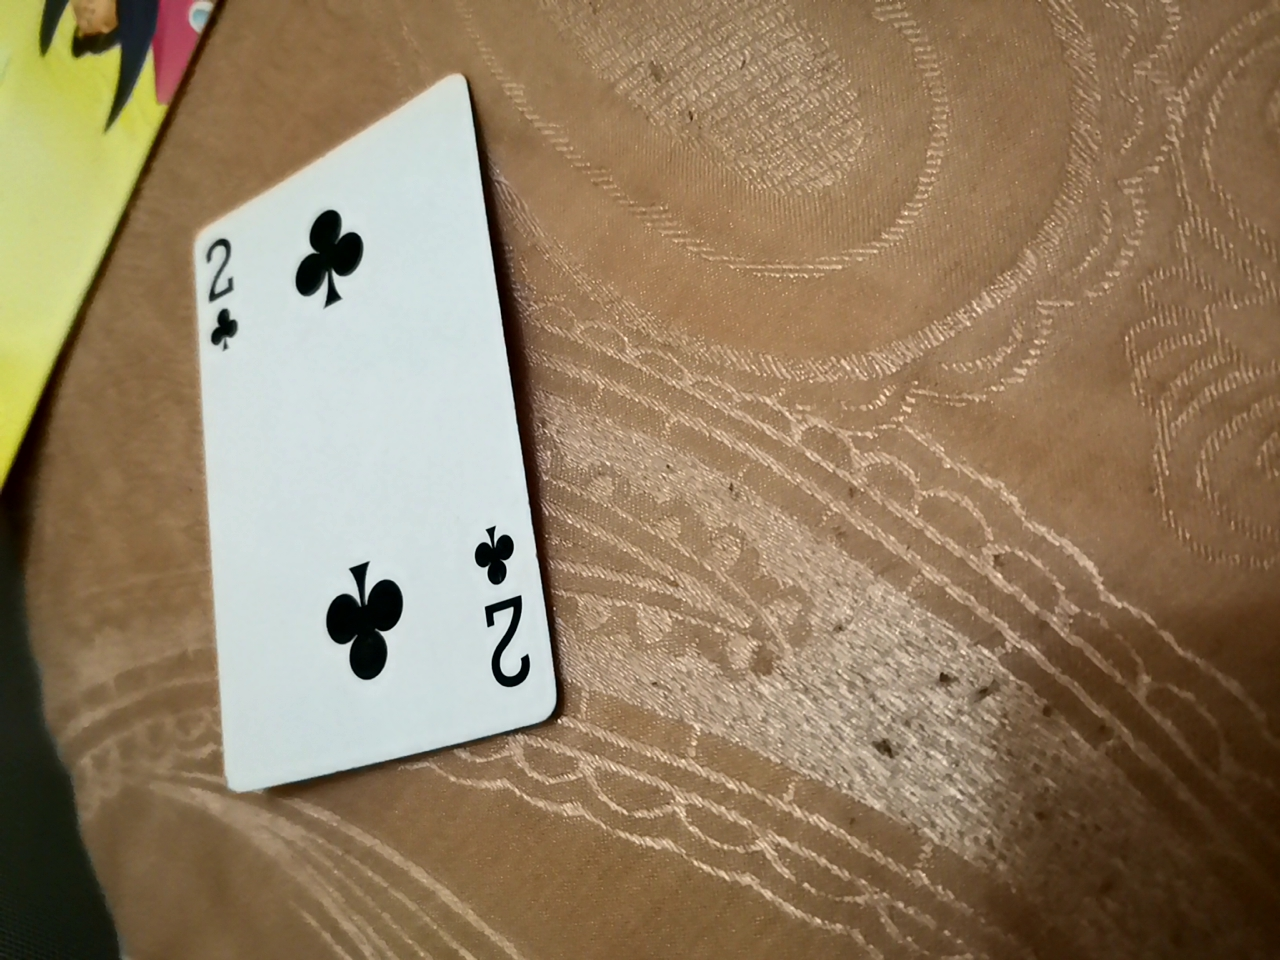mh 2: (158, 103, 542, 777)
